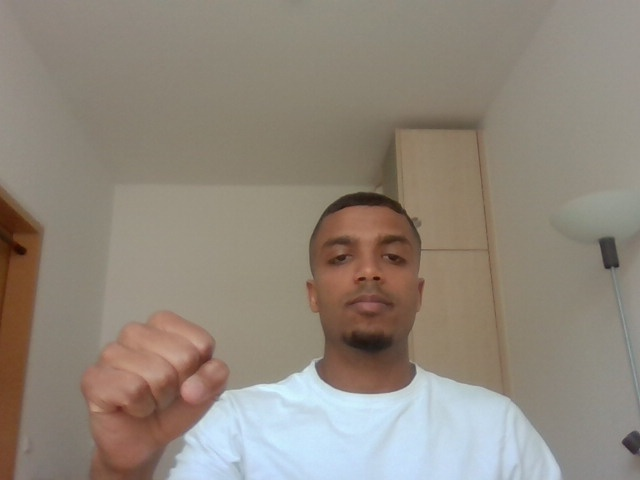maybe: (63, 298, 247, 478)
